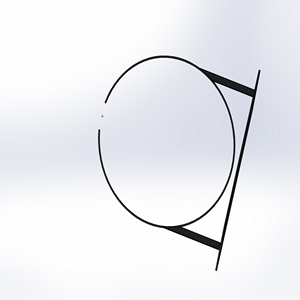circle: (96, 53, 262, 271)
